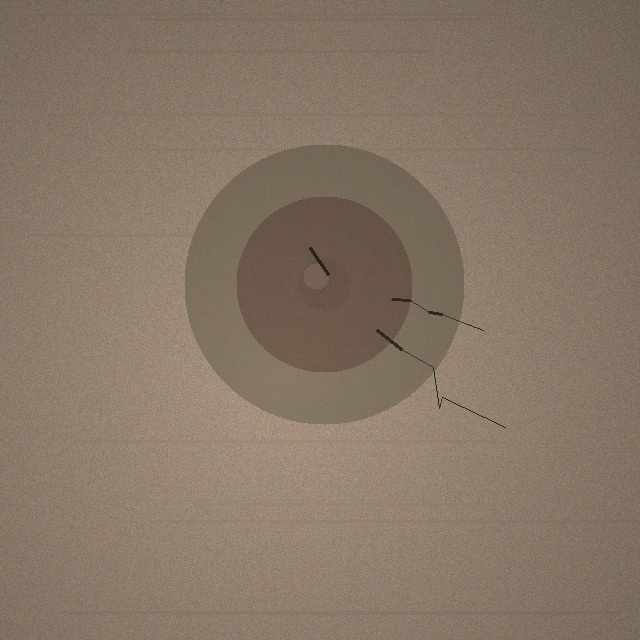crack: (184, 144, 464, 424)
